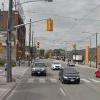Traffic light: (42, 12, 56, 36)
